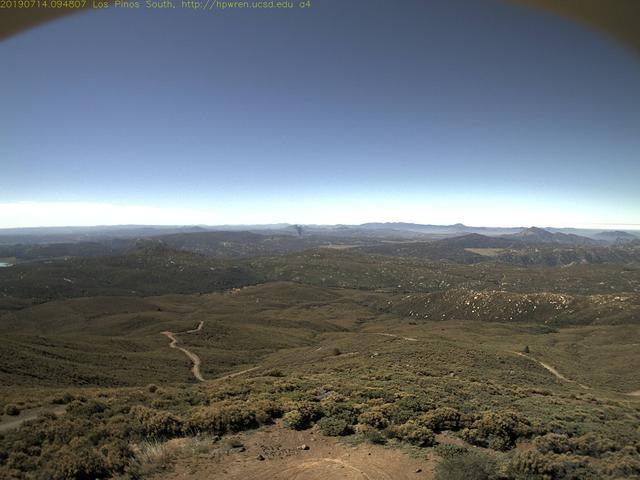smoke: (288, 219, 310, 241)
